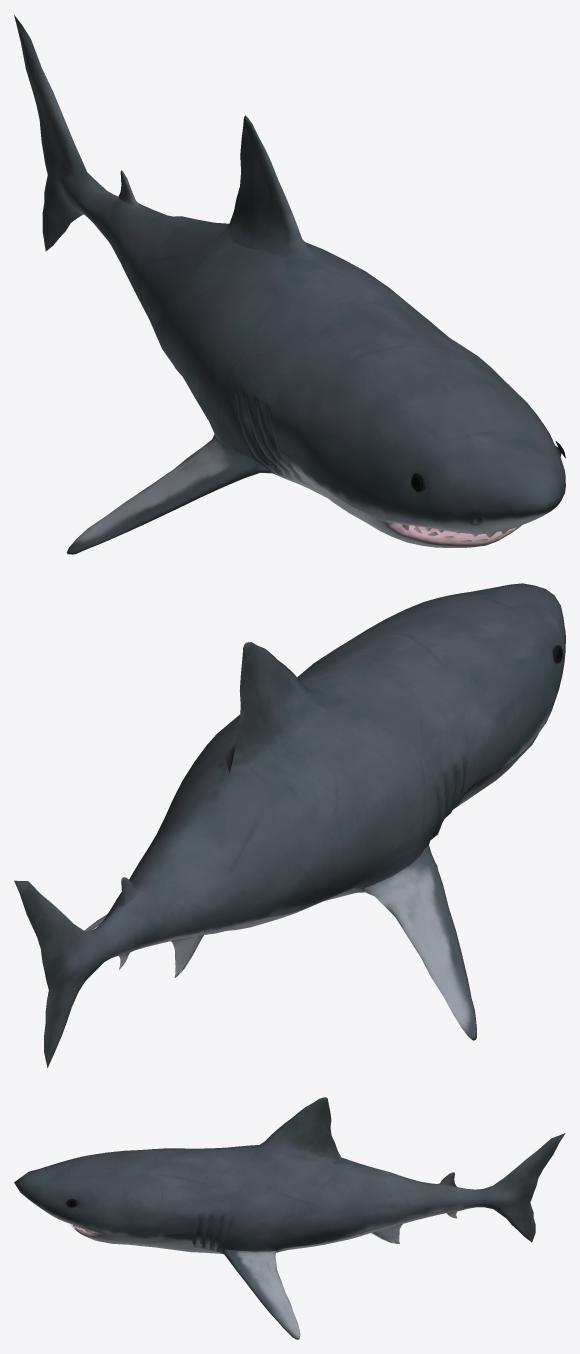
The model's file is shark_greatwhite.glb.
The picture shows the model from 3 angles, top to bottom: view 1: azimuth 30°, elevation 25°; view 2: azimuth 150°, elevation 25°; view 3: azimuth 270°, elevation 25°; orthographic projection. The views are drawn at different scales.
Parts seen in each view (by area): view 1: greatwhite; view 2: greatwhite; view 3: greatwhite.
Part boxes in pixels (x1,y1,x2,y2): greatwhite: (14,15,565,554); greatwhite: (14,583,565,1067); greatwhite: (14,1097,565,1339).
Bounding box in the file's own units: 395 × 343 × 896.
1 material, 1 textured.
